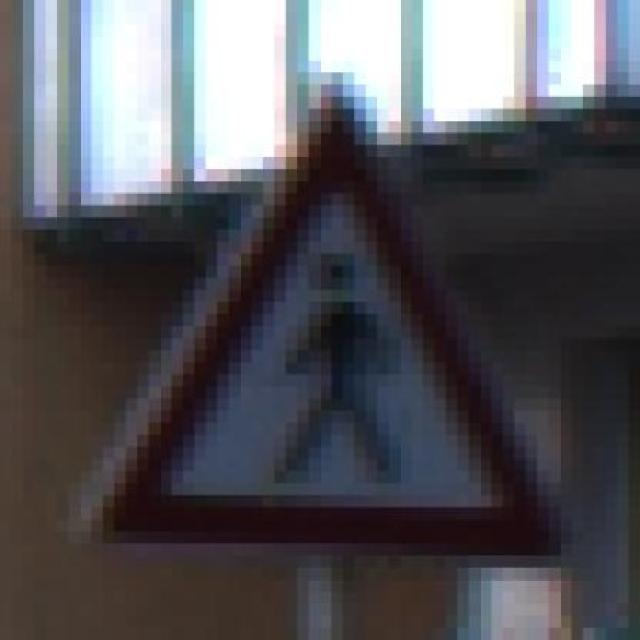Pedestrian Crossing: (68, 85, 583, 568)
